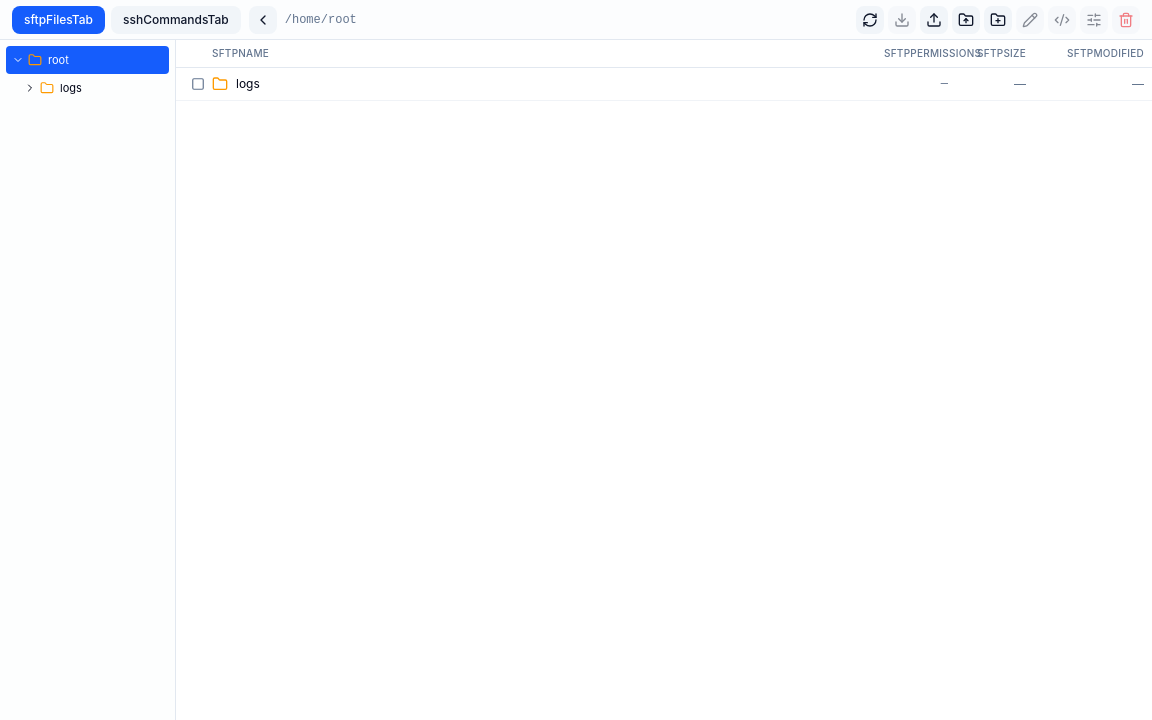
Test: SFTP panel › invalidates pending child reads after upload, including late success
Expected: the button "logs — — —" is shown, [212,68,1144,100]
Click the button named "sftpToggleDirectory logs": (30, 88) [20,78,40,98]
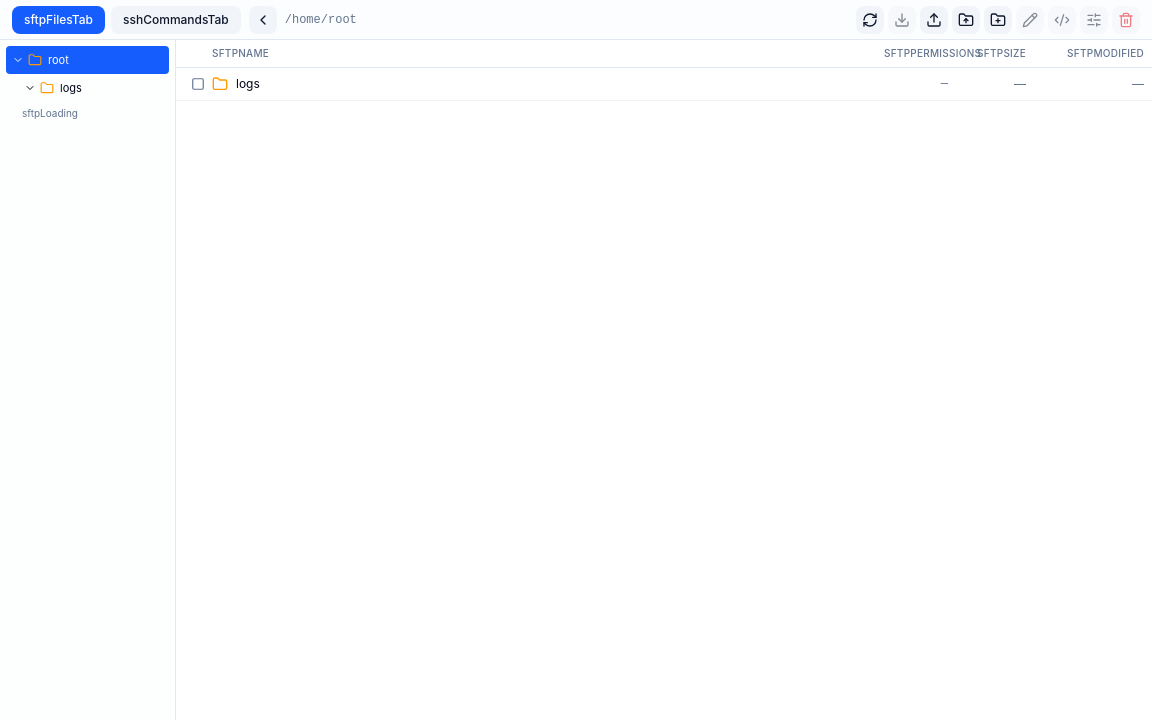
Click the button named "sftpUploadFolder": (966, 20) [952,6,980,34]
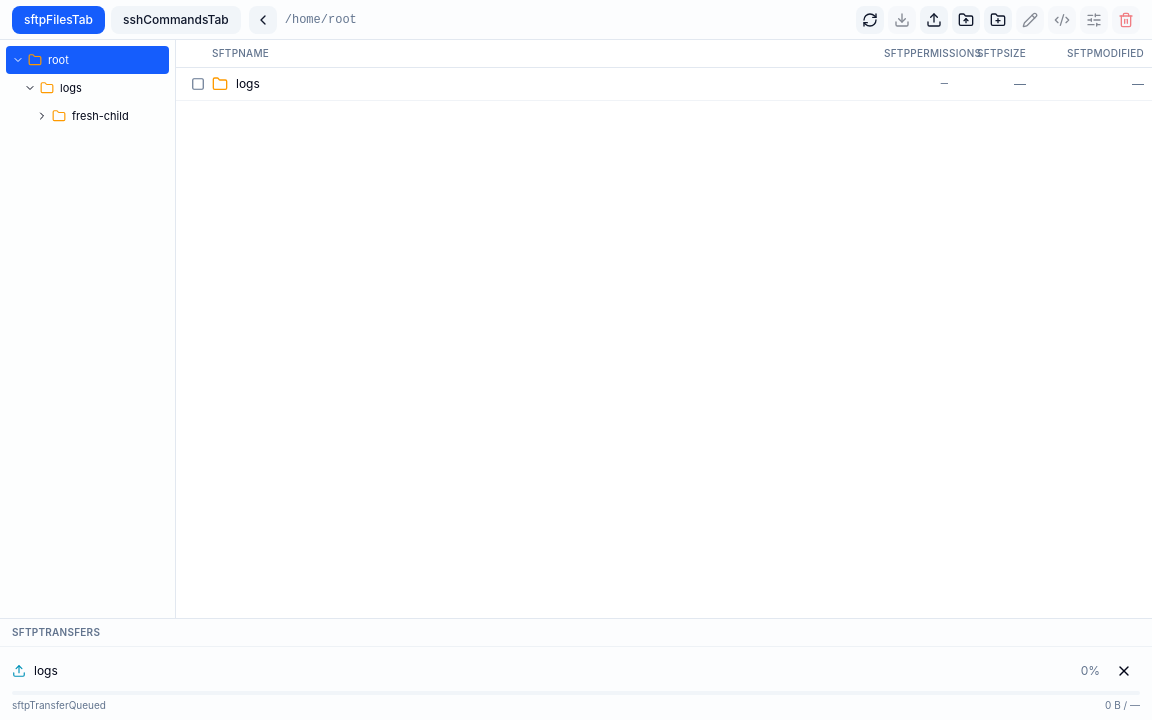
Expected: the button named "sftpToggleDirectory logs" is expanded, [20,78,40,98]
Expected: the message "sftpLoading" is gone
Expected: the text "fresh-child" is shown, [72,108,129,124]
Click the button "logs": (102, 88) [40,76,165,100]
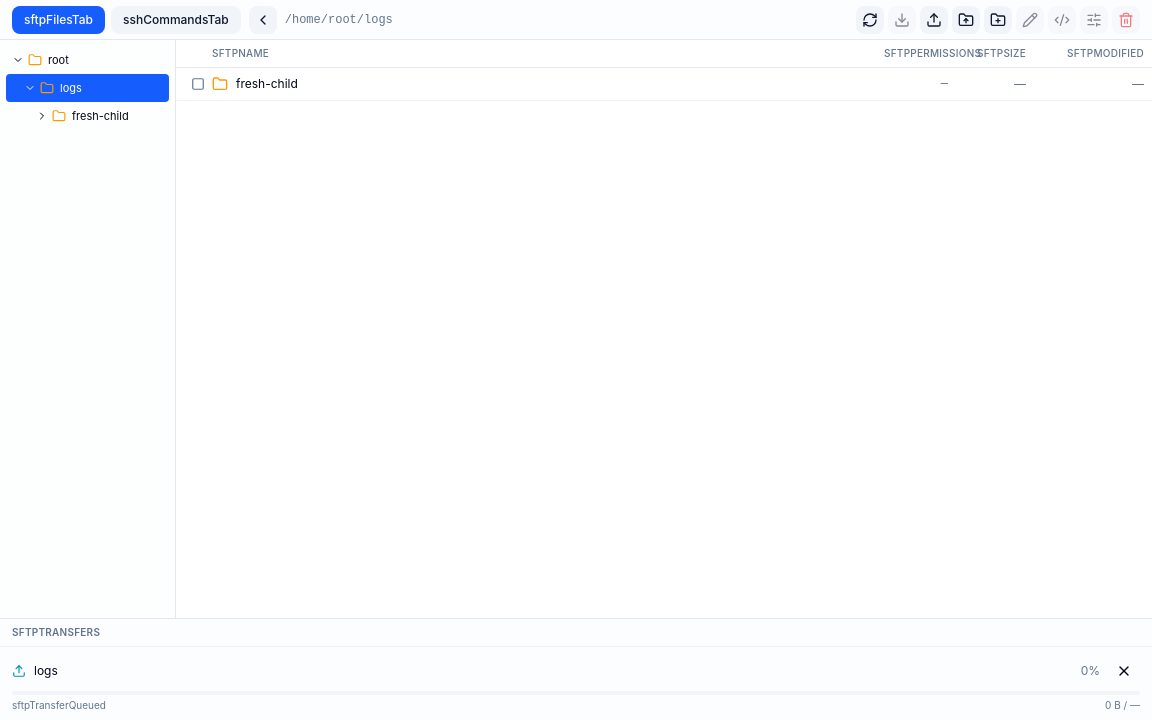
Expected: the button "fresh-child — — —" is shown, [212,68,1144,100]
